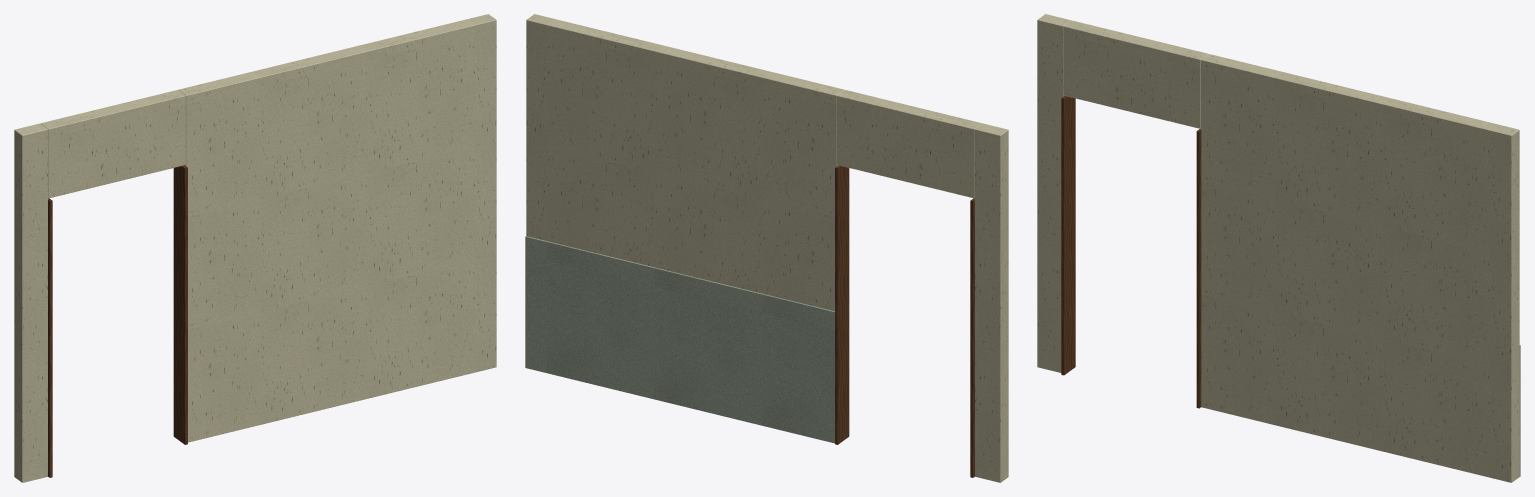
The model's file is bathroom_partition_4m.glb.
3 renders of one model, left to right at view 1: azimuth 30°, elevation 25°; view 2: azimuth 150°, elevation 25°; view 3: azimuth 330°, elevation 25°, orthographic.
Parts seen in each view (by area): view 1: bathroom_partition_4m; view 2: bathroom_partition_4m; view 3: bathroom_partition_4m.
Boxes of the visible parts, x1,y1,x2,y2 form: bathroom_partition_4m: (14,14,496,482); bathroom_partition_4m: (525,14,1008,482); bathroom_partition_4m: (1037,14,1520,482).
Size of the model in its own units: 4 by 2.8 by 0.17.
Materials: 3 (3 with a texture image).
